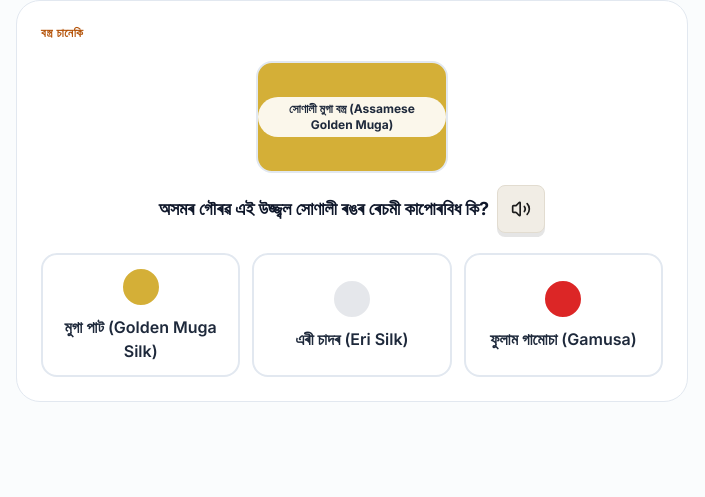
Test: Task 22–25: Cognitive Game Modules & Cultural Reminiscence Tests › 3. VisualMatchingGame renders textile swatch and matches Muga silk
Expected: the text "সোণালী মুগা বস্ত্ৰ (Assamese Golden Muga)" is shown, left=258, top=97, right=446, bottom=137
Click the button "মুগা পাট (Golden Muga Silk)". click: (141, 315)
box: left=41, top=253, right=240, bottom=377
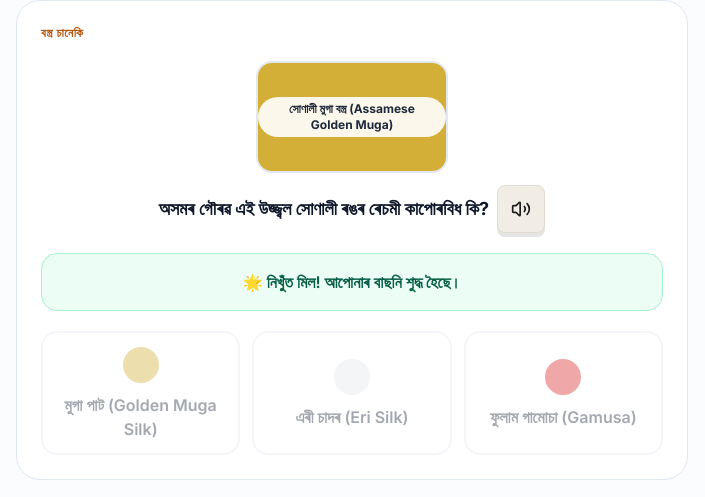
Result: the text "🌟 নিখুঁত মিল! আপোনাৰ বাছনি শুদ্ধ হৈছে।" is shown at left=41, top=253, right=663, bottom=311
